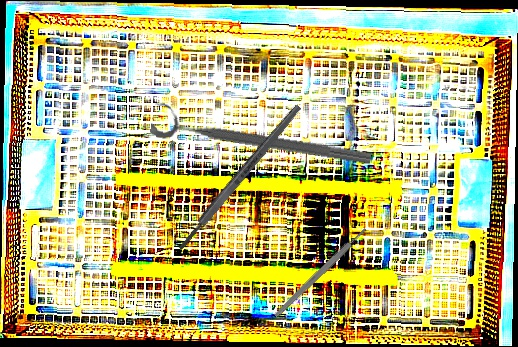Fixation Ring: (149, 98, 375, 172)
Scalpel Handle: (175, 103, 304, 252), (273, 226, 368, 319)
